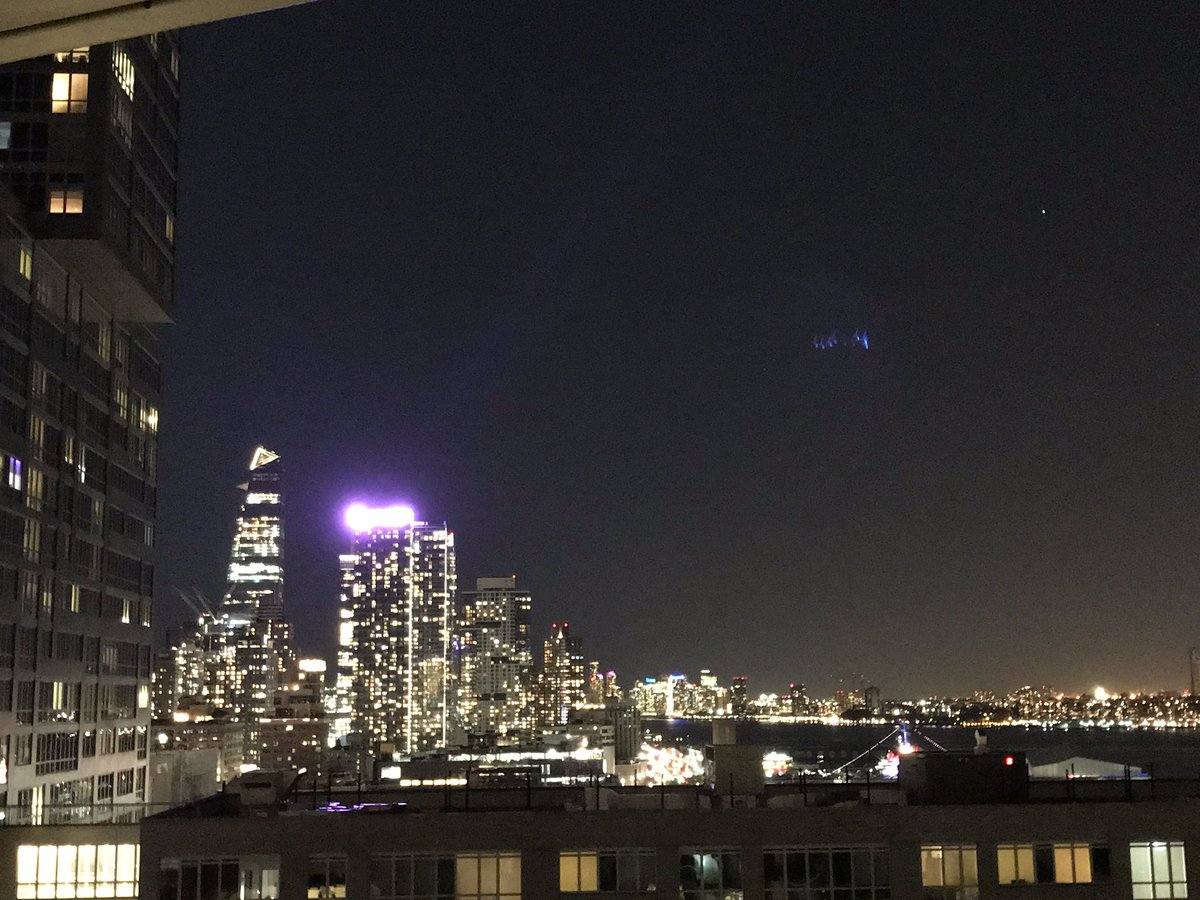building: (1, 1, 194, 900), (213, 436, 298, 700), (326, 490, 411, 754), (459, 568, 540, 759), (406, 516, 452, 748)
sky: (198, 1, 1200, 658)
